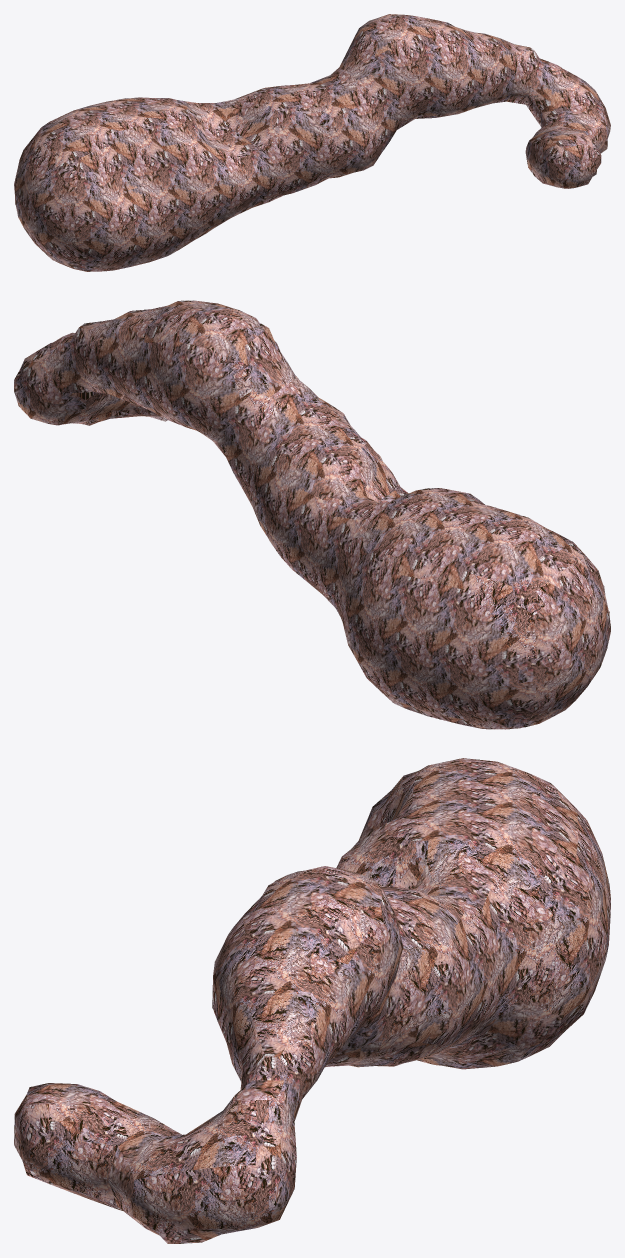
Rendered from cave2.fbx.
The picture shows the model from 3 angles, top to bottom: view 1: azimuth 30°, elevation 25°; view 2: azimuth 150°, elevation 25°; view 3: azimuth 270°, elevation 25°; orthographic projection. The views are drawn at different scales.
Parts seen in each view (by area): view 1: cave2_h; view 2: cave2_h; view 3: cave2_h.
Part boxes in pixels (x1,y1,x2,y2): cave2_h: (14, 14, 610, 271); cave2_h: (14, 300, 610, 729); cave2_h: (14, 758, 610, 1243).
Size of the model in its own units: 2666 by 1099 by 1620.
